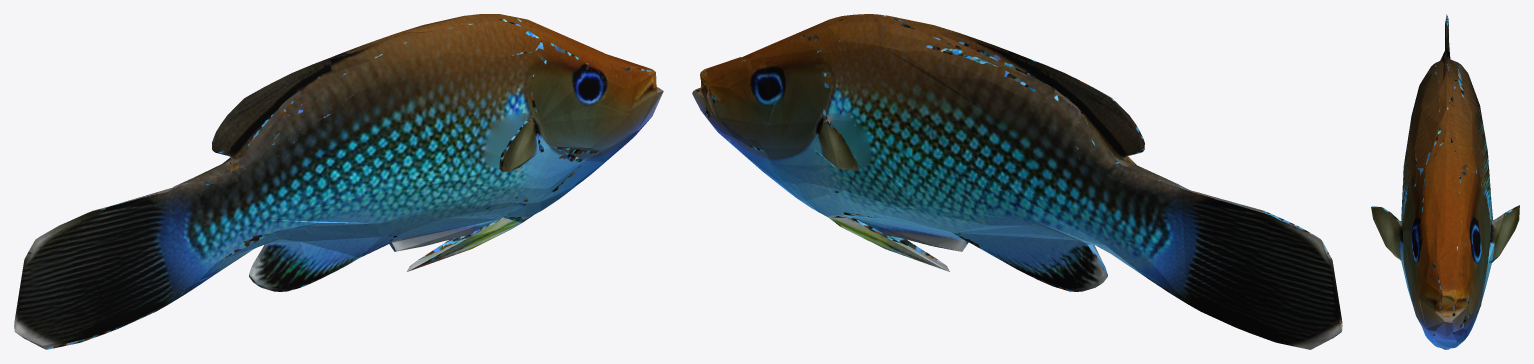
Rendered from fish_0084_smpl23_resized.glb.
3 renders of one model, left to right at view 1: azimuth 30°, elevation 25°; view 2: azimuth 150°, elevation 25°; view 3: azimuth 270°, elevation 25°, orthographic.
Visible parts, largest first — view 1: world; view 2: world; view 3: world.
Part boxes in pixels (x1,y1,x2,y2): world: (14,14,663,349); world: (692,14,1342,349); world: (1371,14,1519,349).
Bounding box in the file's own units: 1.99 × 0.7138 × 0.3989.
1 material, 1 textured.
